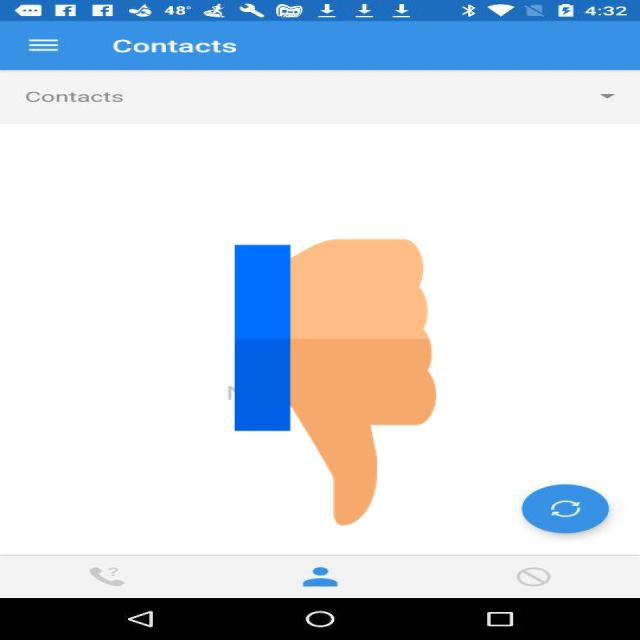obstruction: (235, 232, 436, 533)
